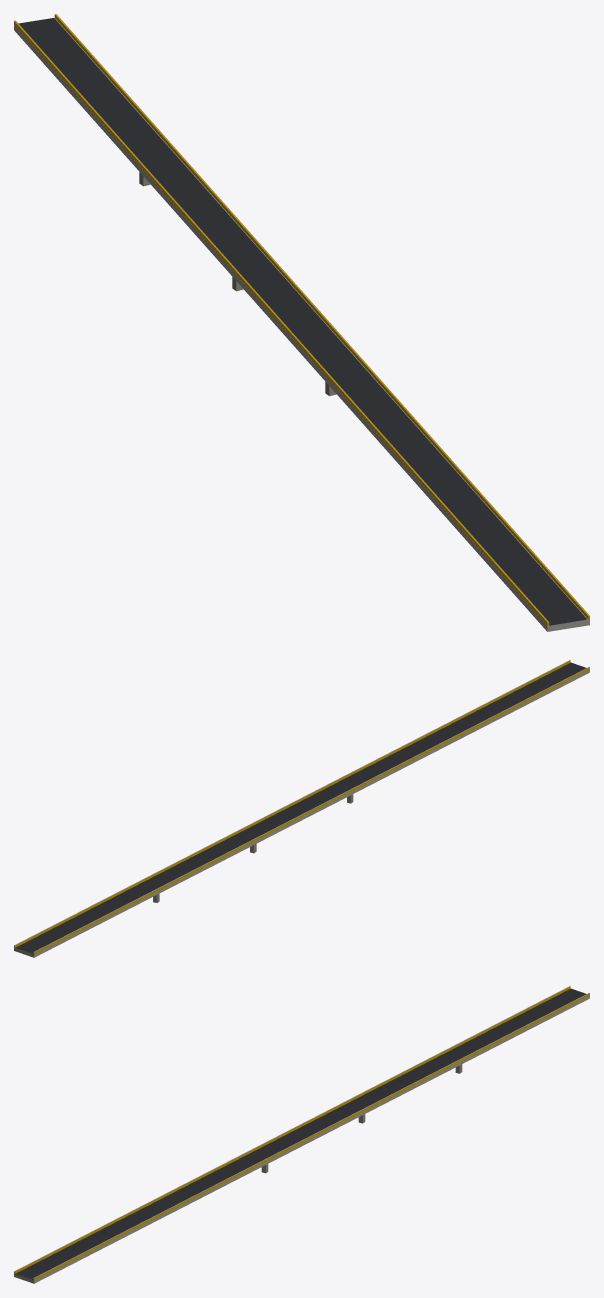
The model's file is jembatan-siak-1-lod1.glb.
3 views of the same model, one above another, from view 1: azimuth 30°, elevation 25°; view 2: azimuth 150°, elevation 25°; view 3: azimuth 330°, elevation 25° (orthographic). The views are drawn at different scales.
Visible parts, largest first — view 1: jembatan-siak-1_LOD1; view 2: jembatan-siak-1_LOD1; view 3: jembatan-siak-1_LOD1.
Part boxes in pixels (box(x1,y1,x2,y2)): jembatan-siak-1_LOD1: box(14, 14, 589, 631); jembatan-siak-1_LOD1: box(14, 660, 589, 957); jembatan-siak-1_LOD1: box(14, 986, 589, 1283).
Bounding box in the file's own units: 77.84 × 8.06 × 398.
